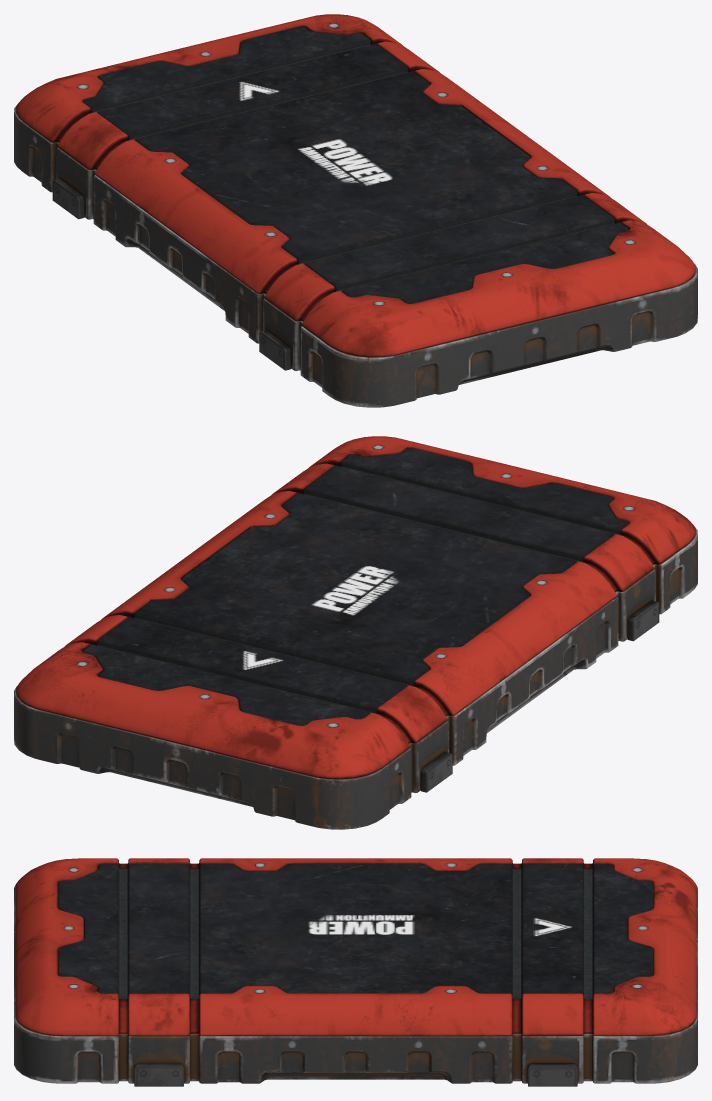
The model's file is SM_AmmunitionBoxes03_Door.fbx.
3 renders of one model, top to bottom at view 1: azimuth 30°, elevation 25°; view 2: azimuth 150°, elevation 25°; view 3: azimuth 270°, elevation 25°, orthographic. The views are drawn at different scales.
Parts seen in each view (by area): view 1: SM_AmmunitionBoxes03_Door_LOD0; view 2: SM_AmmunitionBoxes03_Door_LOD0; view 3: SM_AmmunitionBoxes03_Door_LOD0.
Boxes of the visible parts, bbox=[...] form: SM_AmmunitionBoxes03_Door_LOD0: bbox=[14, 14, 697, 407]; SM_AmmunitionBoxes03_Door_LOD0: bbox=[14, 436, 697, 829]; SM_AmmunitionBoxes03_Door_LOD0: bbox=[14, 858, 697, 1086].
Bounding box in the file's own units: 56.61 × 94.01 × 10.95.
1 material, 1 textured.
